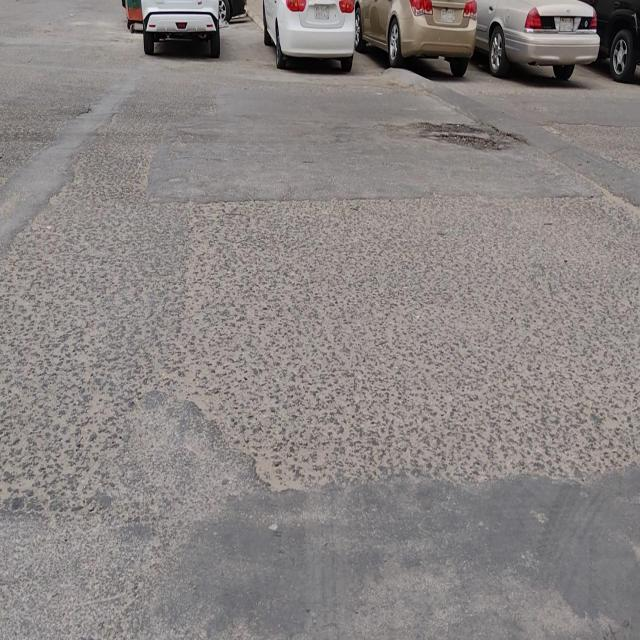Potholes: (420, 118, 519, 153)
